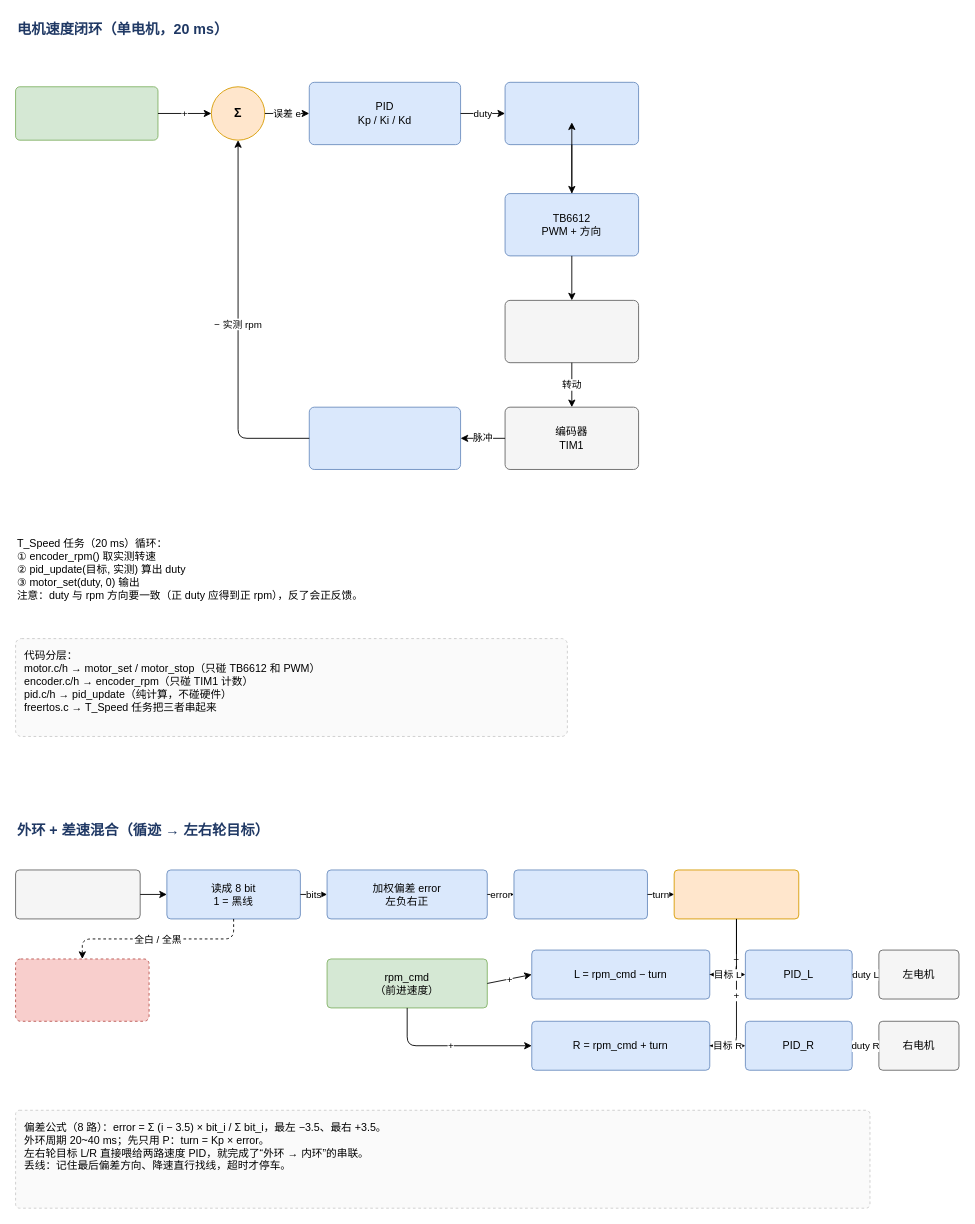
The diagram is 975 pixels wide and 1224 high, and some of its shapes have lost their labels. The shapes that lost their labels are listed below. From the top down, each one's centre as x and y in pixels, then its label:
(x=86, y=113): 目标转速 rpm_cmd
(x=571, y=113): 限幅 ±7200
(x=571, y=331): 电机
(x=384, y=437): rpm 计算 count / 20 ms
(x=77, y=894): 灰度 8 路
(x=580, y=894): × Kp（外环 P）
(x=736, y=894): turn （转向量）
(x=82, y=989): 丢线处理 降速找线 / 超时停车
